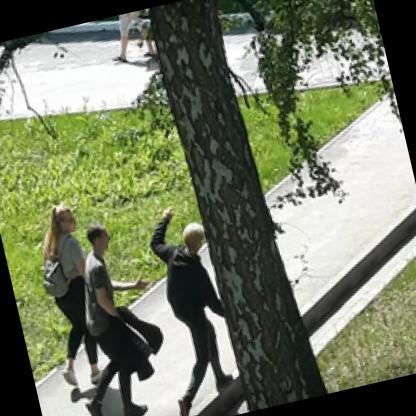Human Body: (37, 213, 178, 415), (134, 198, 252, 415), (15, 192, 132, 398)
